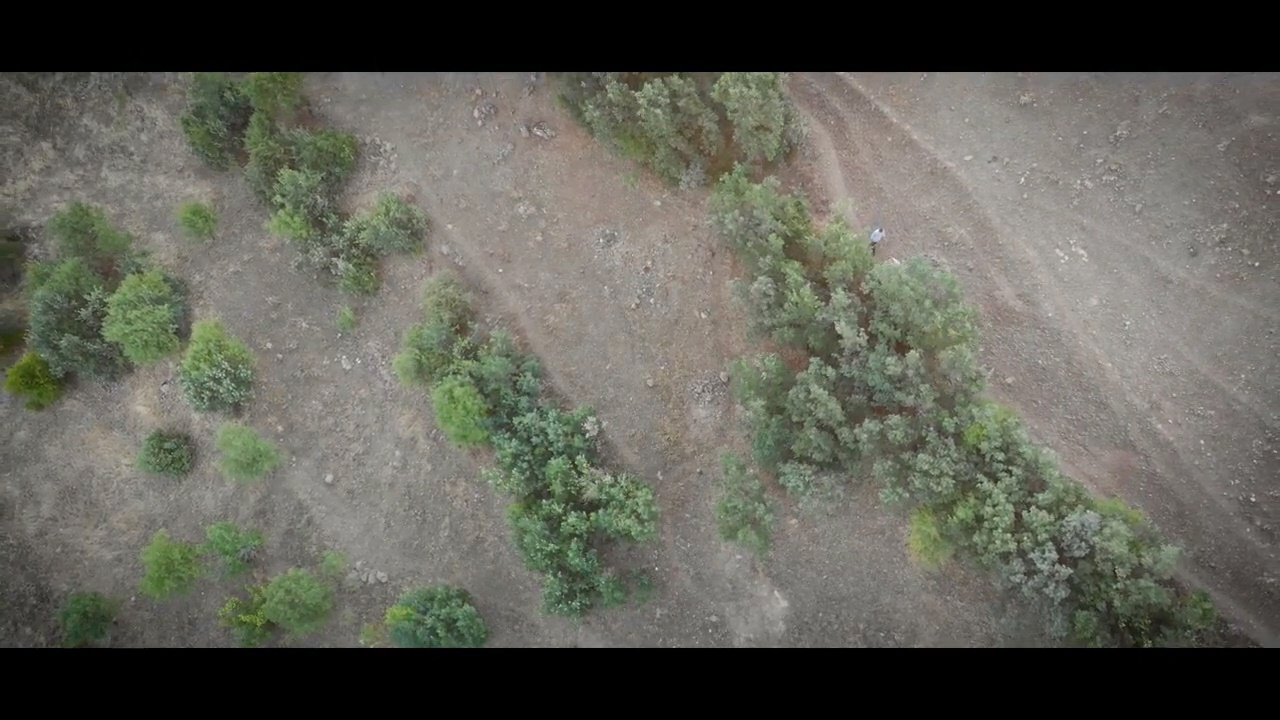insan: (869, 224, 887, 255)
